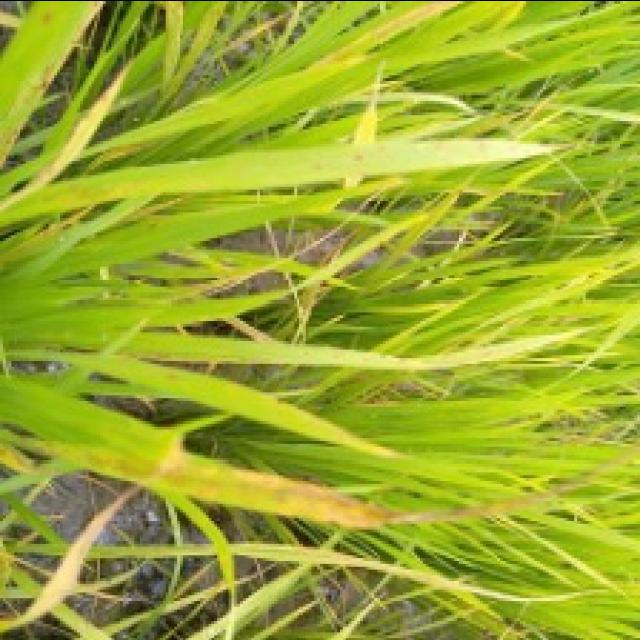Unhealthy: (4, 431, 183, 629), (228, 467, 520, 530), (286, 401, 407, 457)
